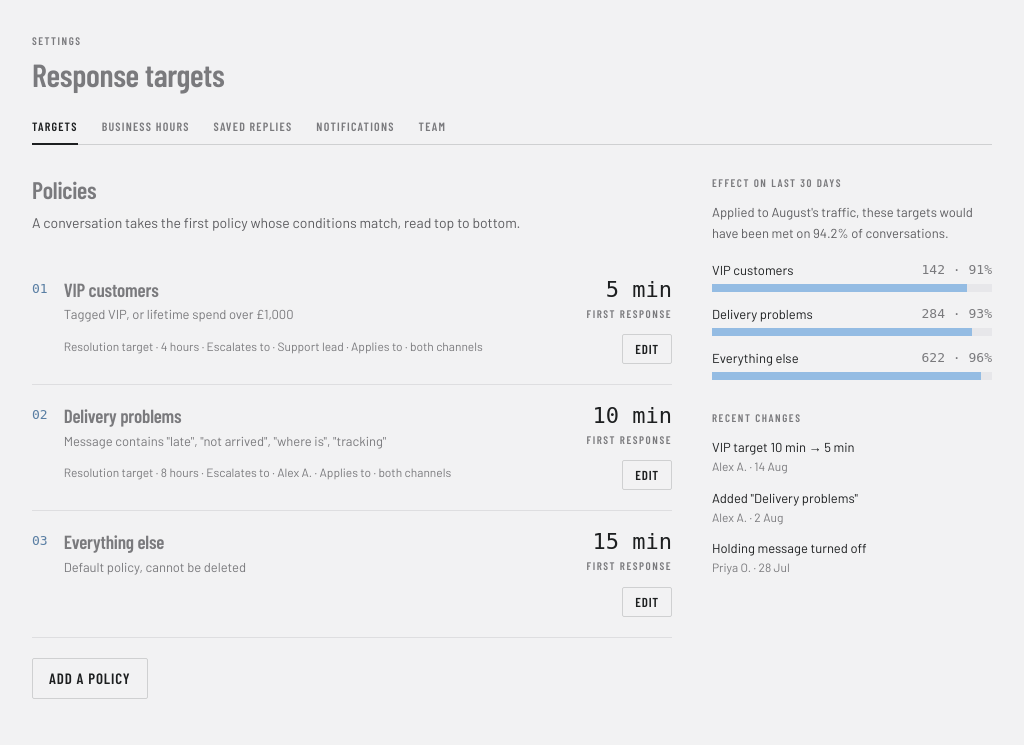
Test: SettingsPage › is honest that the other tabs are not part of the demo
Click the tab "Business hours". click: (146, 131)
box: x1=102 y1=117 x2=190 y2=146
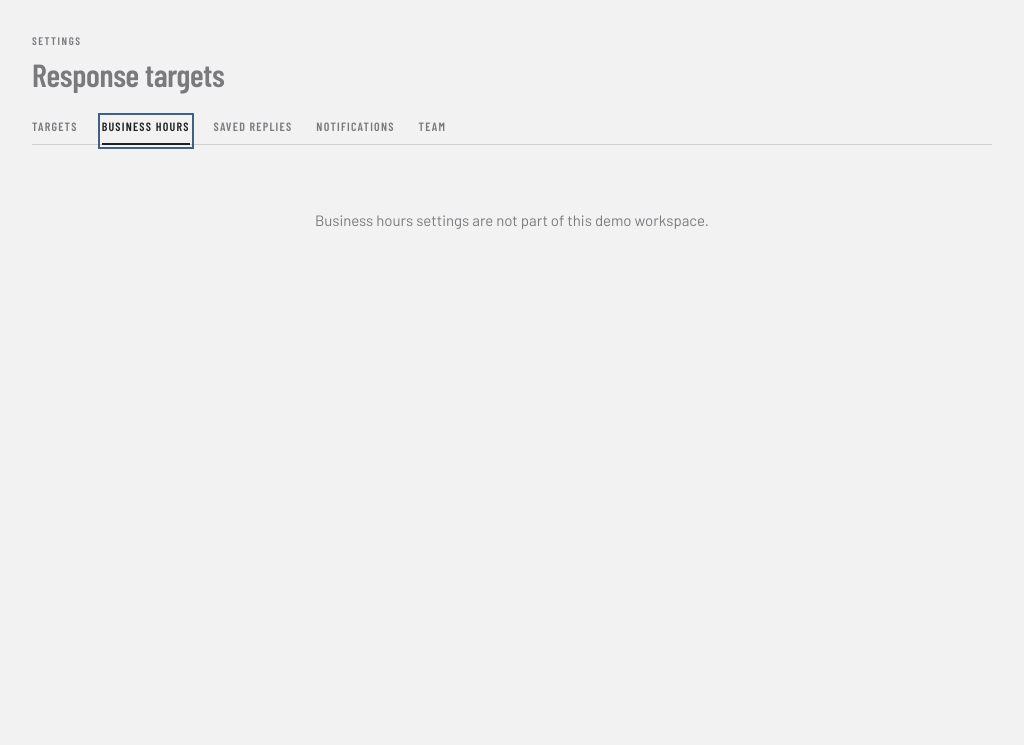
expect the text "Business hours settings are not part of this demo workspace." is shown: met, box x1=315 y1=212 x2=709 y2=230
